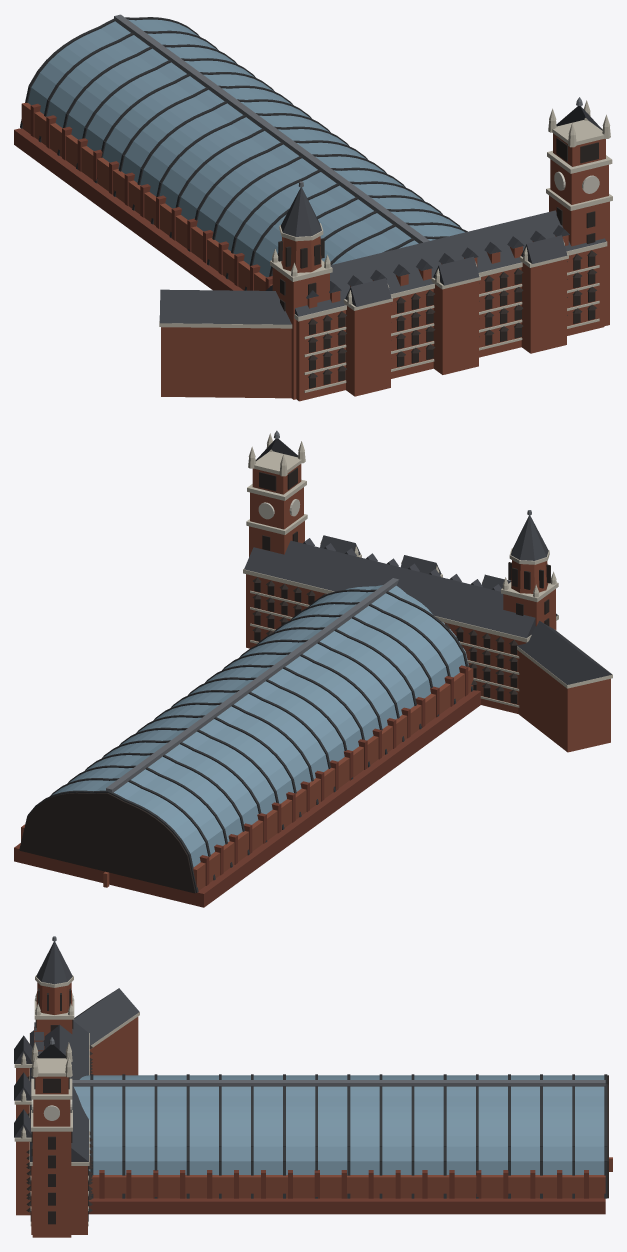
Rendered from st_pancras.glb.
The picture shows the model from 3 angles, top to bottom: view 1: azimuth 30°, elevation 25°; view 2: azimuth 150°, elevation 25°; view 3: azimuth 270°, elevation 25°; orthographic projection. The views are drawn at different scales.
Visible parts, largest first — view 1: st_pancras; view 2: st_pancras; view 3: st_pancras.
Part boxes in pixels (bbox=[...]): st_pancras: bbox=[14, 14, 612, 401]; st_pancras: bbox=[14, 430, 612, 907]; st_pancras: bbox=[14, 936, 612, 1237].
Bounding box in the file's own units: 160 × 83 × 234.
